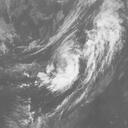cyclone: (39, 49, 79, 92)
